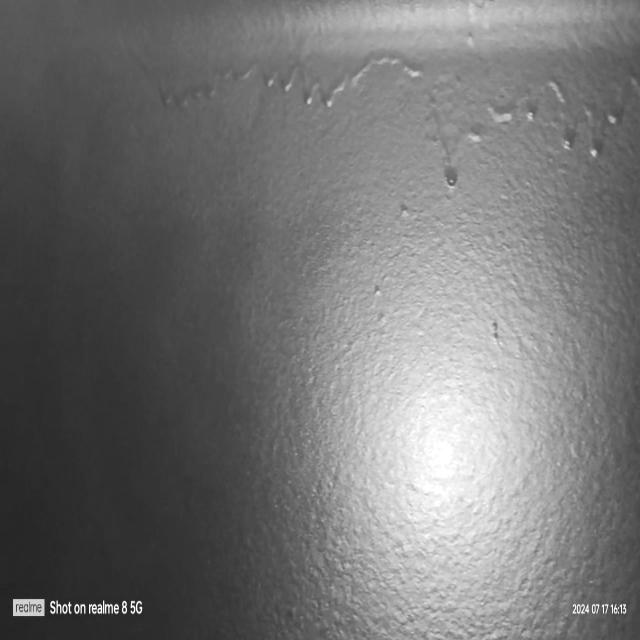paint drips: (129, 42, 640, 197)
